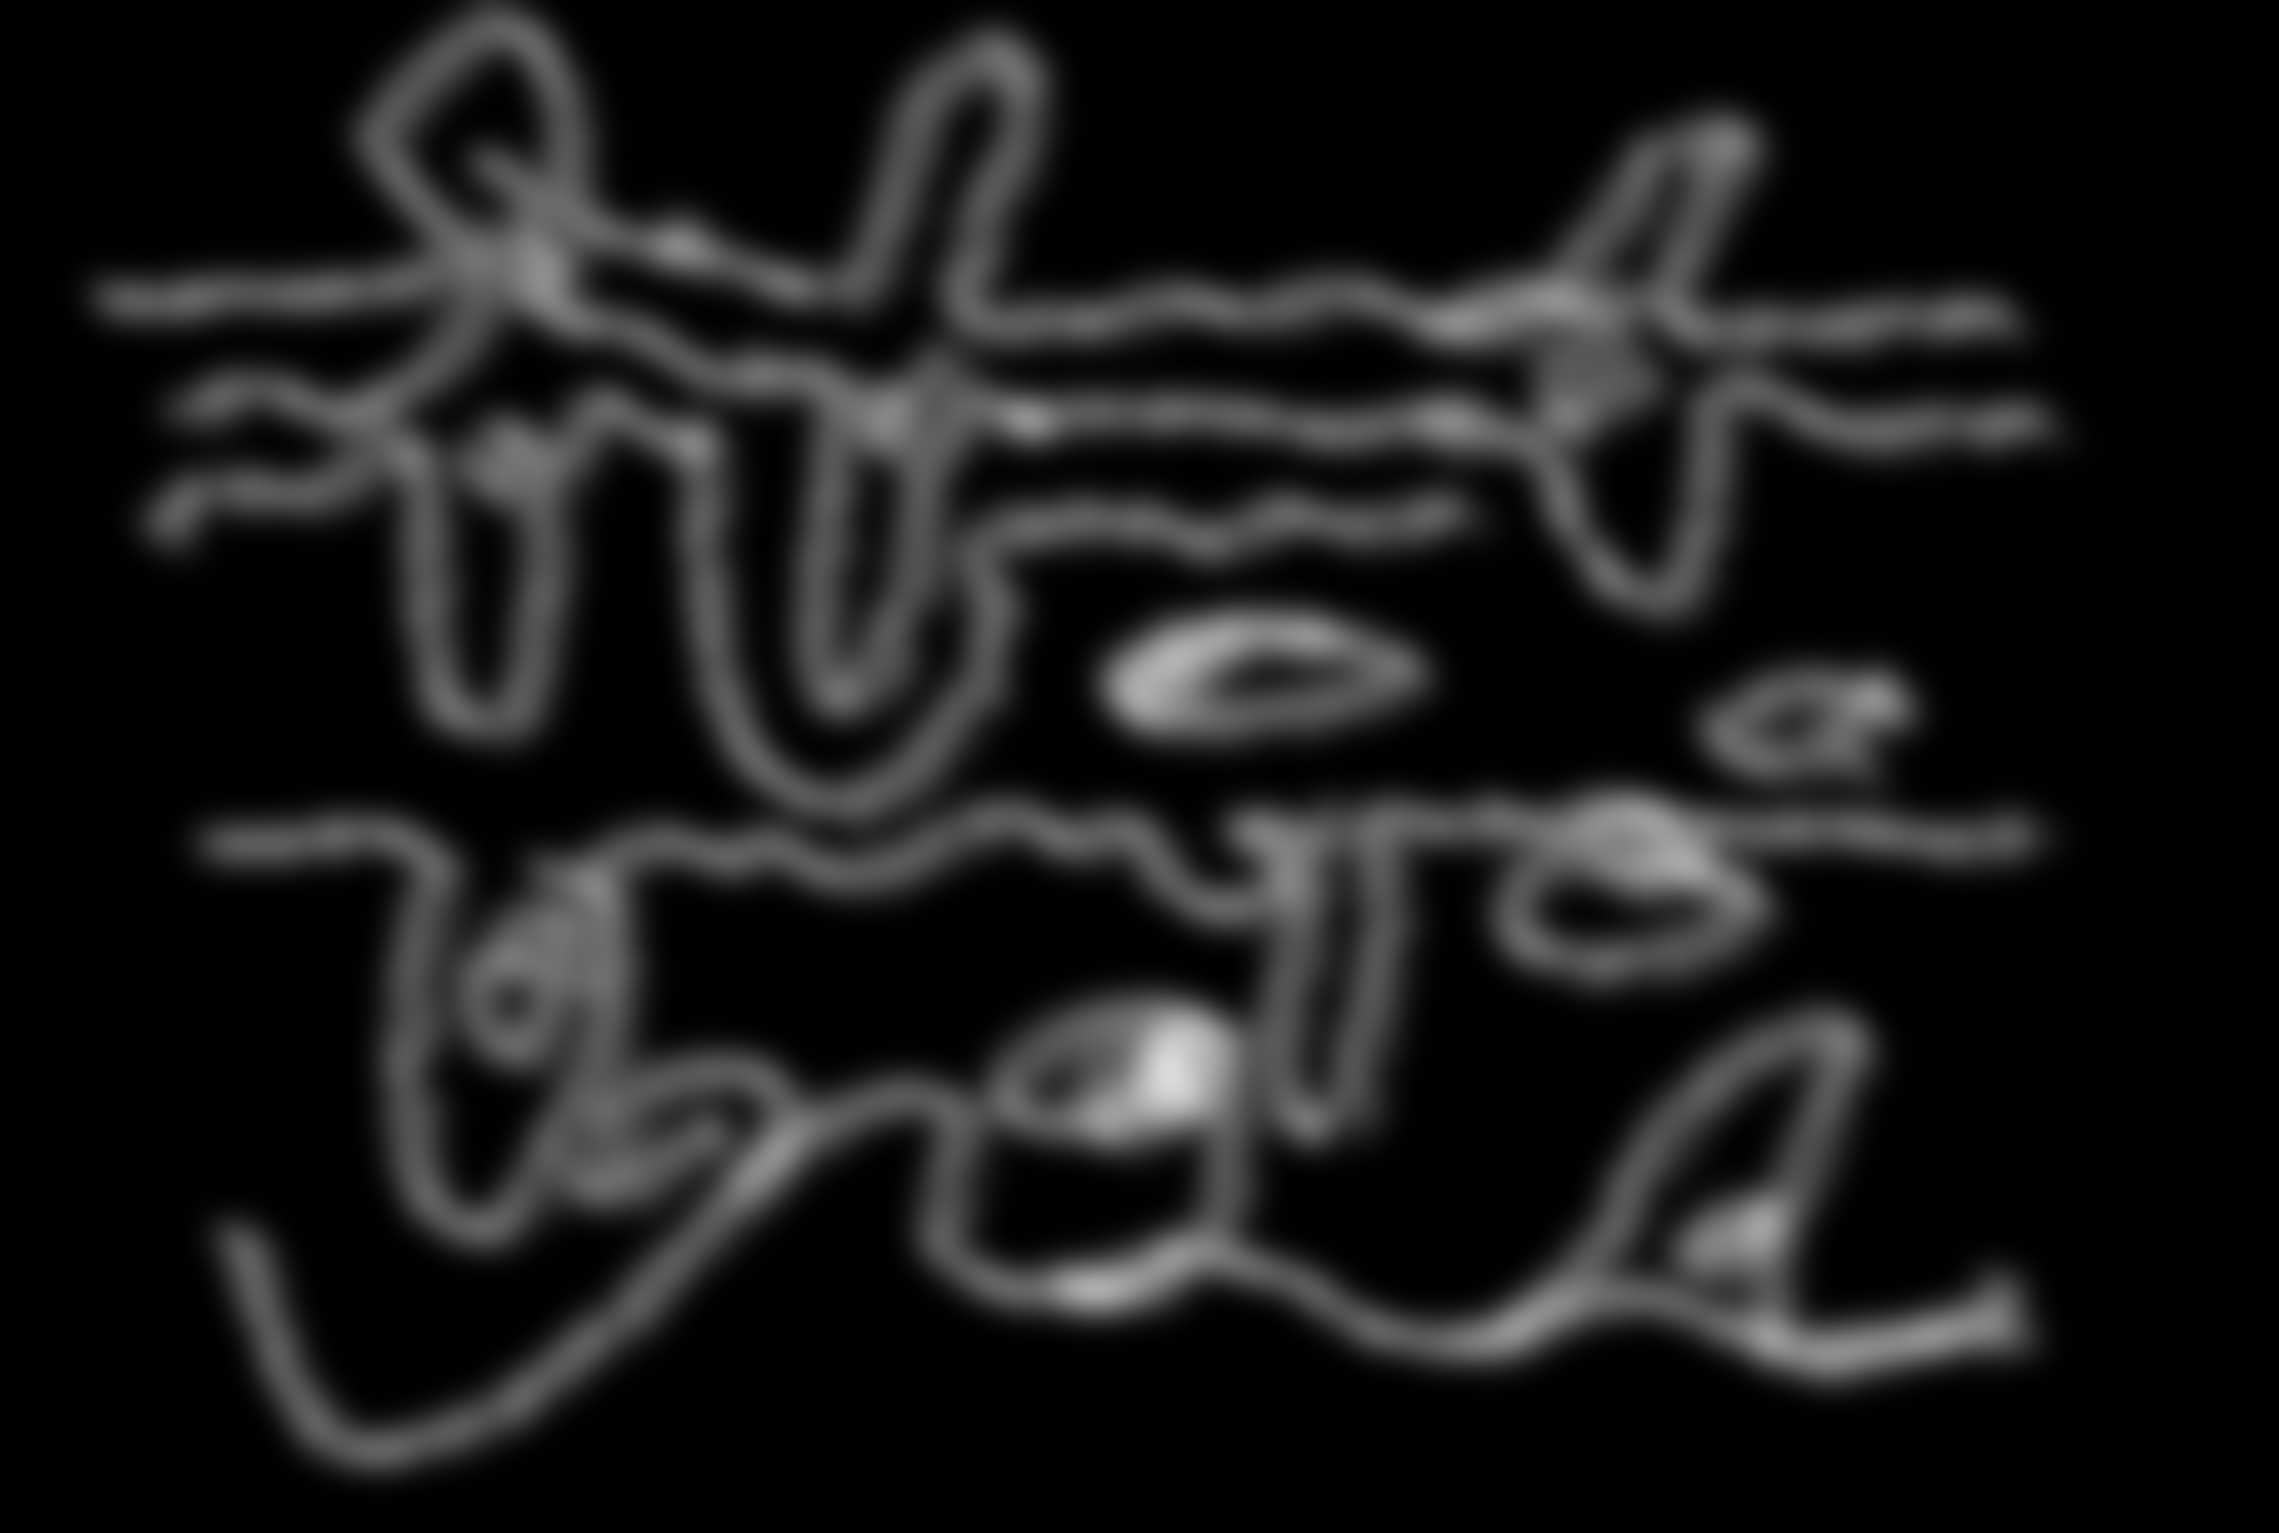turbulence: (84, 21, 2199, 1489)
